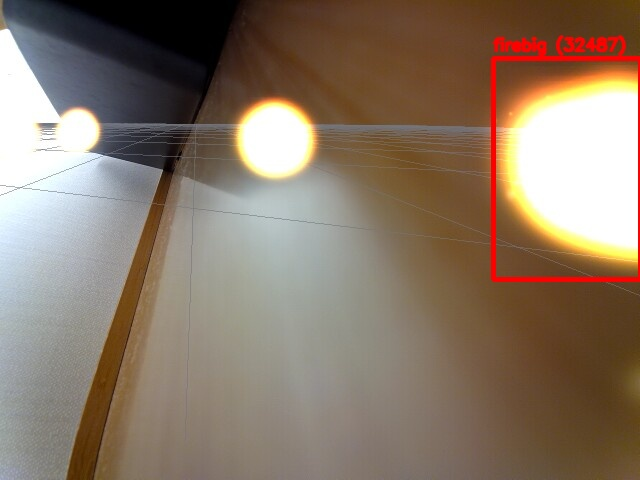firebig: (493, 58, 640, 279)
